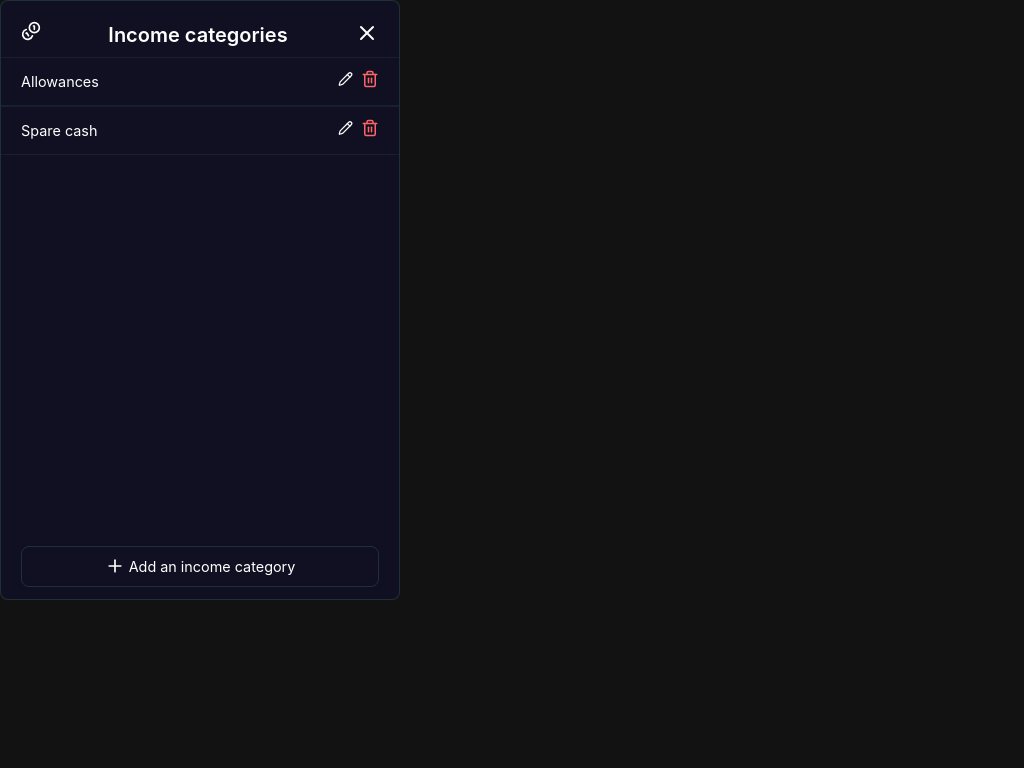
Test case: Test if elements in income categories modal works › Render elements into view
The width and height of the screenshot is (1024, 768).
Expected: the text "Allowances" is shown, left=21, top=70, right=99, bottom=93
Click the text "Add an income category". click: (212, 566)
box: left=129, top=555, right=295, bottom=578
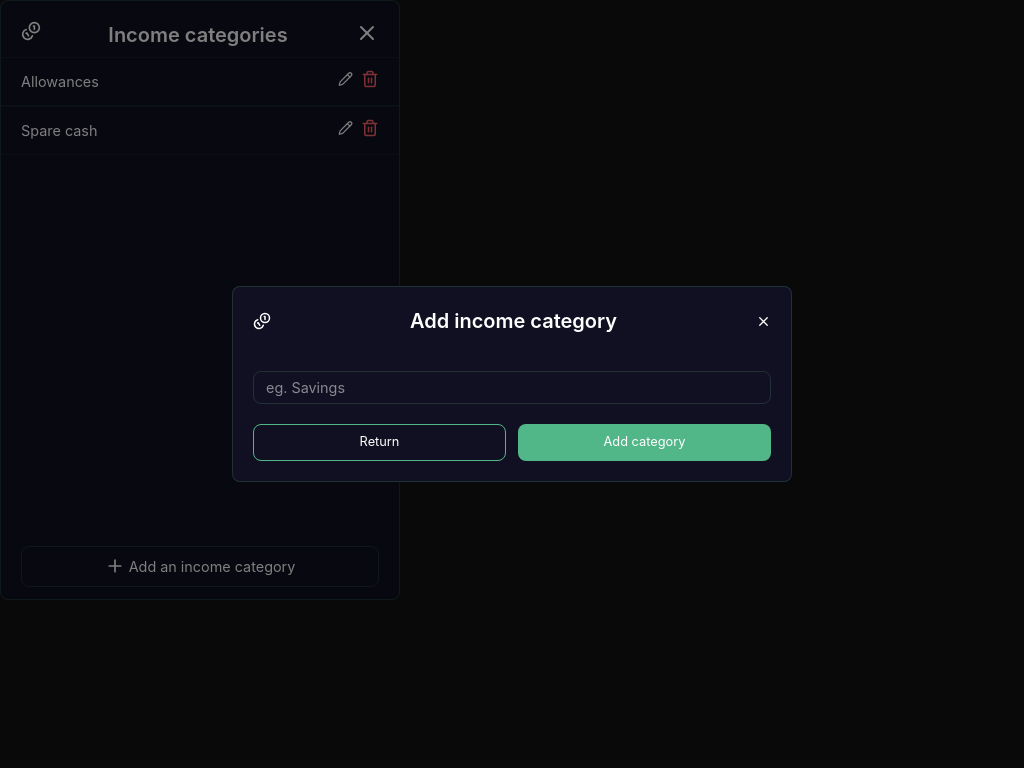
Result: the text "Add income category" is shown at left=410, top=307, right=617, bottom=335
Result: the field with placeholder "eg. Savings" is shown at left=253, top=371, right=771, bottom=404
